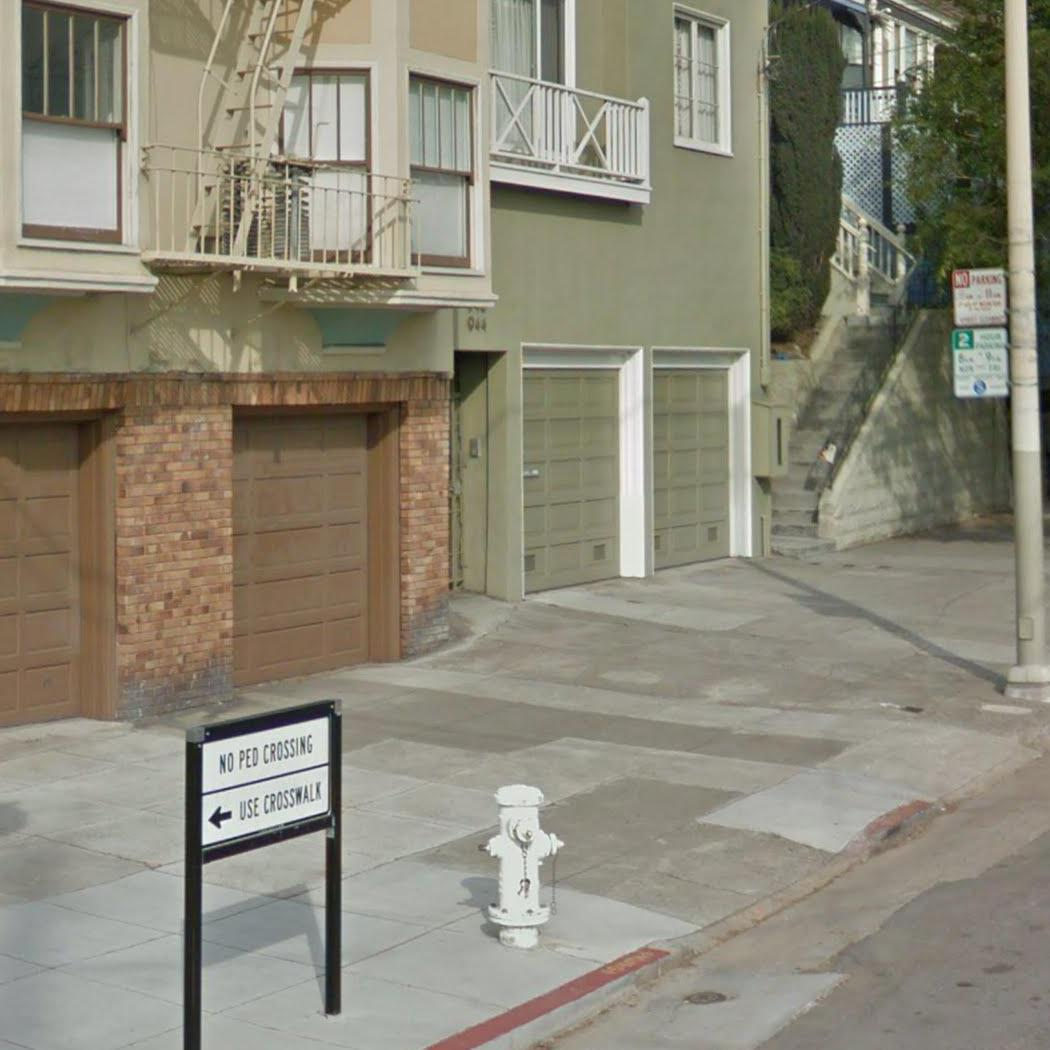2 Hour Parking: (951, 327, 1011, 400)
No Parking: (949, 267, 1009, 328)
